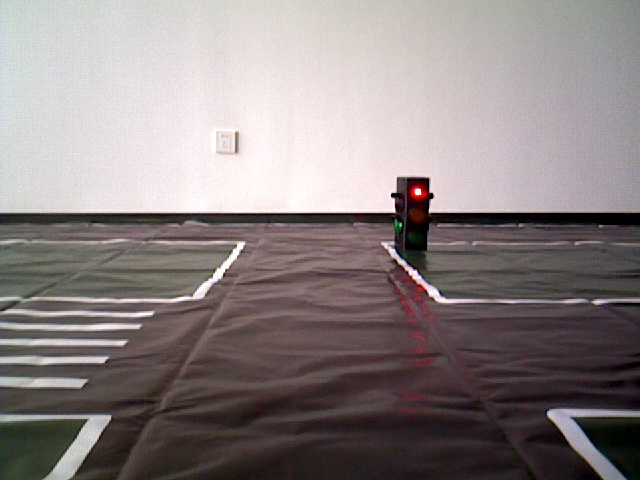red: (393, 180, 428, 253)
